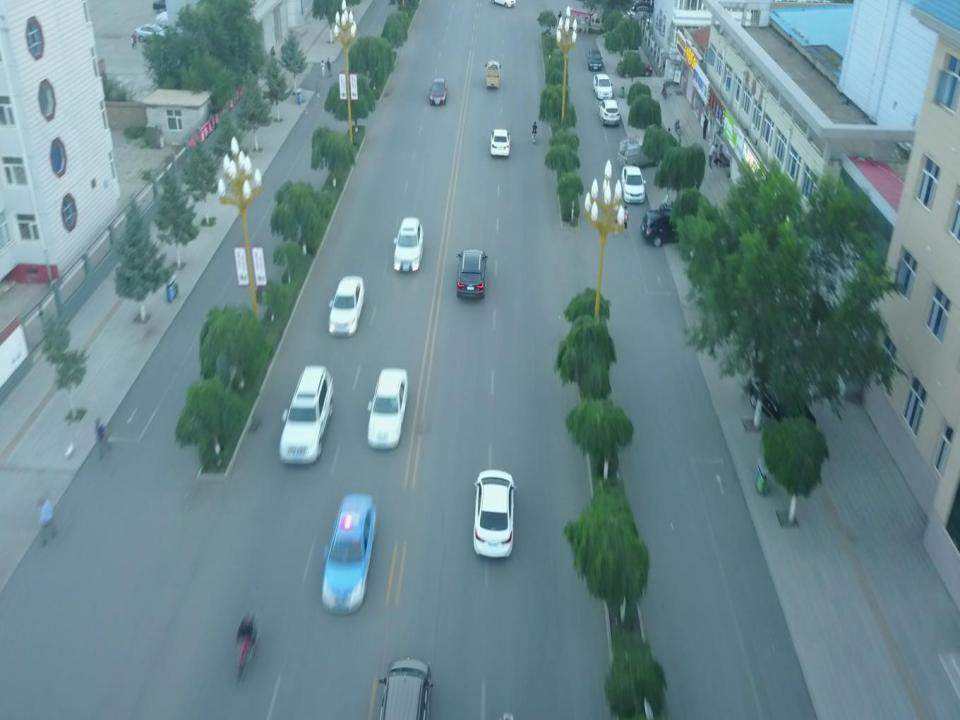car: (326, 498, 374, 613), (289, 366, 333, 467), (753, 370, 818, 436), (472, 472, 516, 560), (371, 364, 408, 454), (382, 660, 430, 720), (332, 274, 363, 340), (645, 207, 689, 247), (394, 217, 422, 274), (456, 247, 486, 300), (620, 165, 646, 204), (490, 127, 511, 158), (592, 72, 614, 100), (599, 100, 621, 127), (429, 76, 448, 106), (587, 46, 603, 71)
truck: (484, 62, 501, 90)
